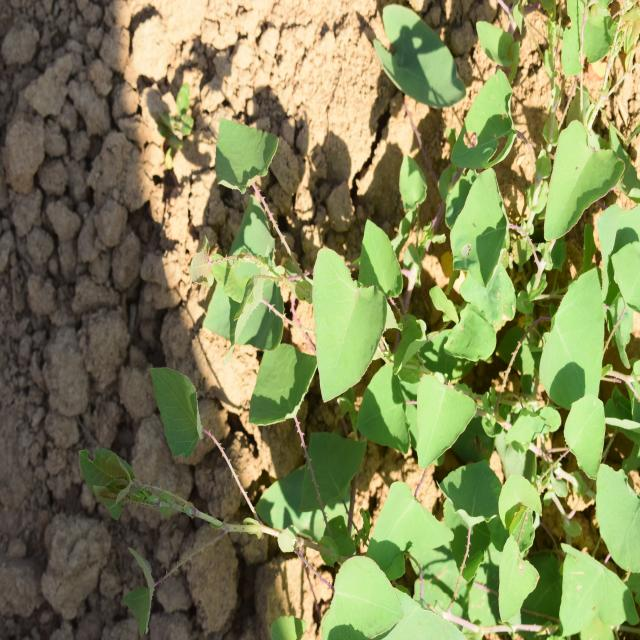Asiatic_Smartweed: (209, 196, 486, 482), (479, 372, 640, 640), (501, 91, 638, 378)
